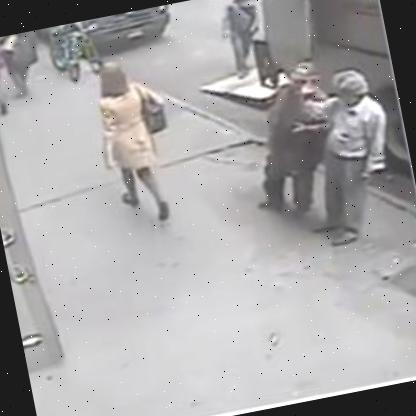person: (280, 60, 408, 252), (74, 50, 190, 238)
